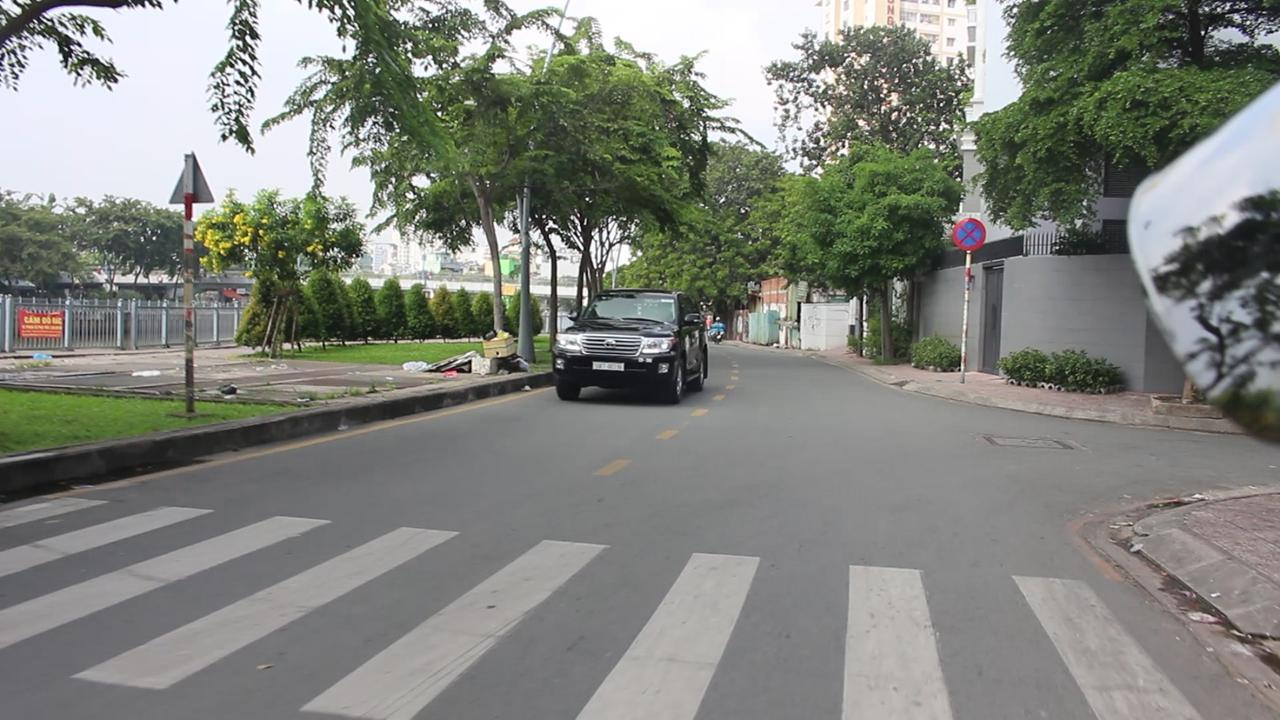P.103a: (951, 218, 985, 251)
